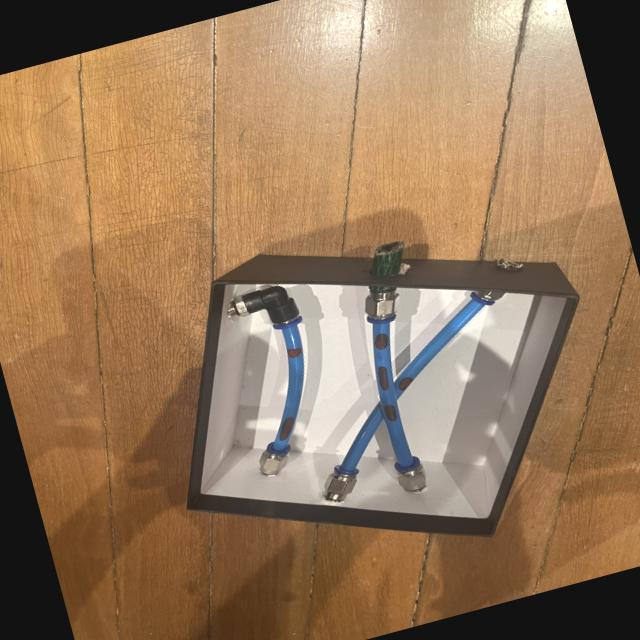hose_damage: (275, 415, 297, 442), (380, 402, 400, 424), (376, 364, 391, 391), (372, 332, 392, 352), (394, 374, 416, 392), (286, 346, 302, 360)
